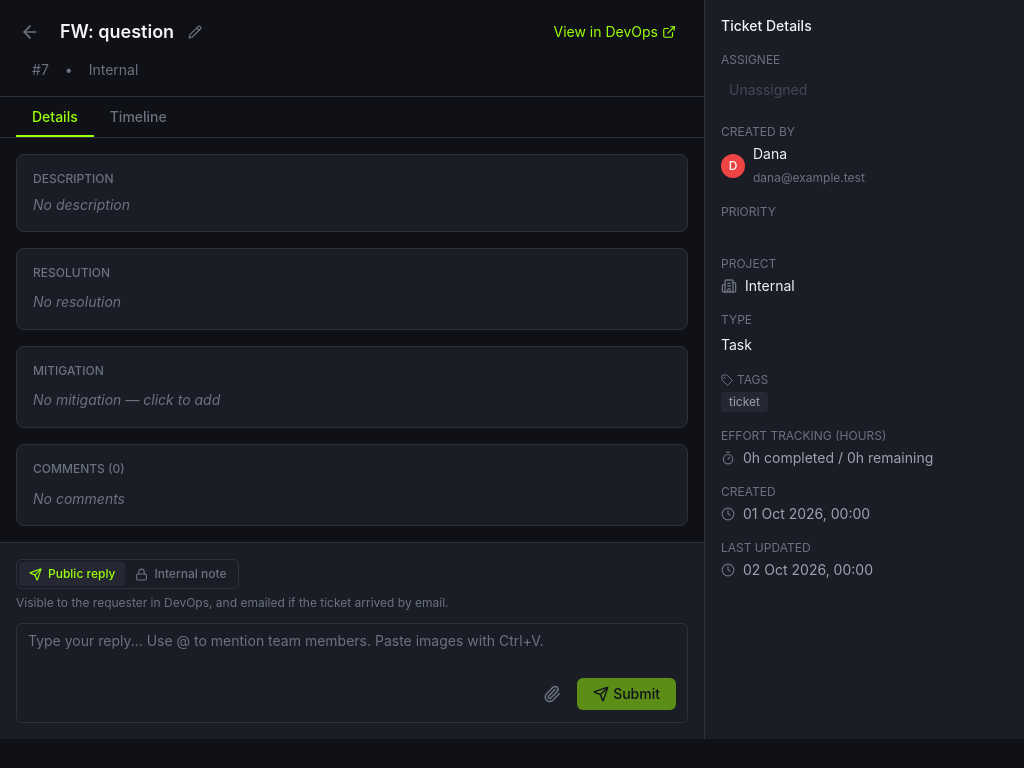
TicketDetail title editing › treats a stored title with padding as unchanged
Click the button named "Edit title" at x=195, y=32, box [182, 19, 208, 45]
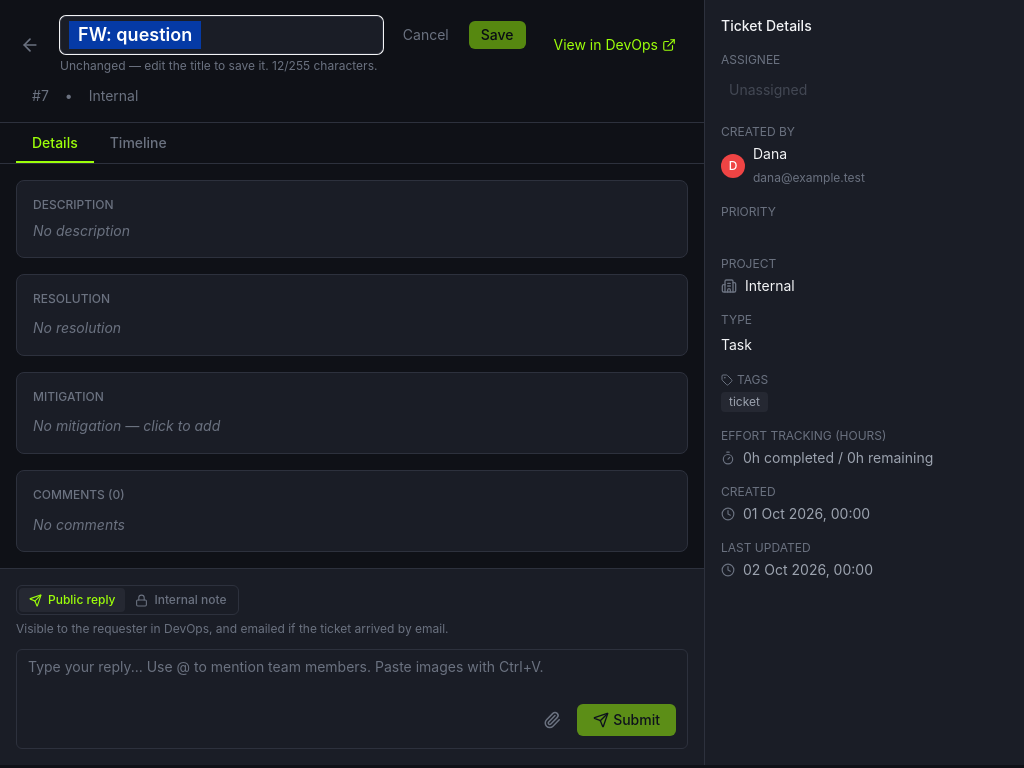
Check: the button "Save" is disabled, box [469, 21, 526, 49]
